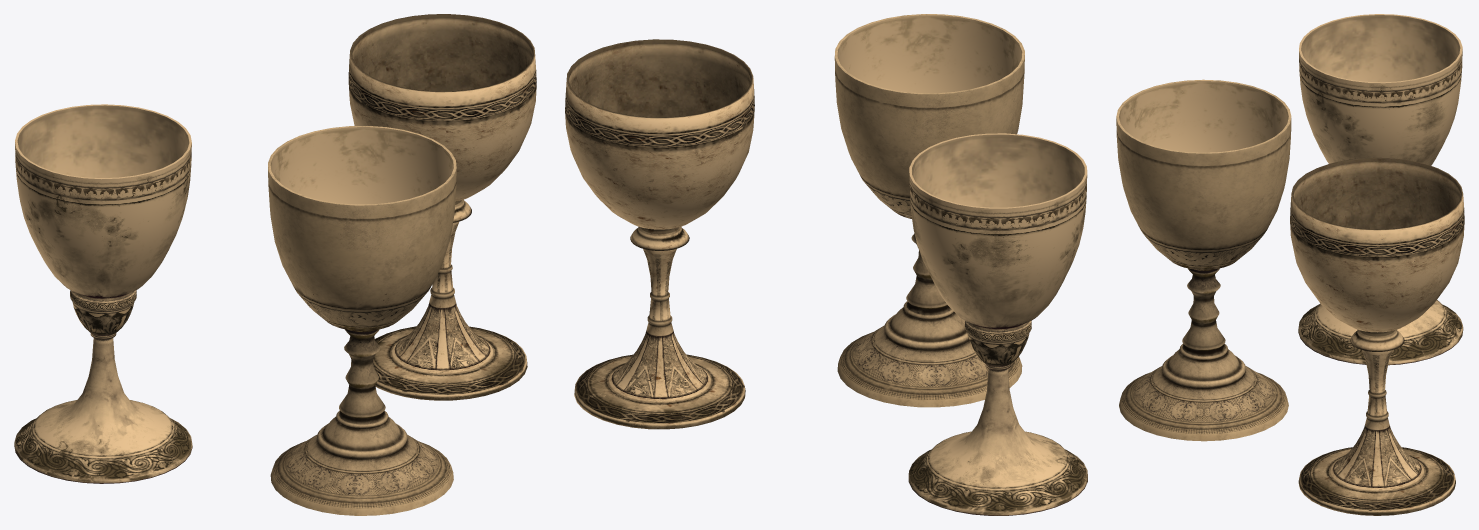
The model's file is brass_goblets_2k.gltf.
3 renders of one model, left to right at view 1: azimuth 30°, elevation 25°; view 2: azimuth 150°, elevation 25°; view 3: azimuth 270°, elevation 25°, orthographic. The views are drawn at different scales.
Parts seen in each view (by area): view 1: brass_goblet_01, brass_goblet_02, brass_goblet_03; view 2: brass_goblet_02, brass_goblet_03, brass_goblet_01; view 3: brass_goblet_01, brass_goblet_03, brass_goblet_02.
Part boxes in pixels (box(x1,y1,x2,y2)): brass_goblet_01: box(268, 126, 456, 515); brass_goblet_02: box(14, 104, 192, 483); brass_goblet_03: box(348, 14, 536, 400); brass_goblet_02: box(908, 133, 1087, 515); brass_goblet_03: box(565, 39, 754, 429); brass_goblet_01: box(834, 14, 1024, 407); brass_goblet_01: box(1116, 79, 1291, 441); brass_goblet_03: box(1290, 157, 1464, 515); brass_goblet_02: box(1298, 14, 1463, 365).
Bounding box in the file's own units: 0.4534 × 0.2734 × 0.2976.
Materials: 3 (3 with a texture image).
